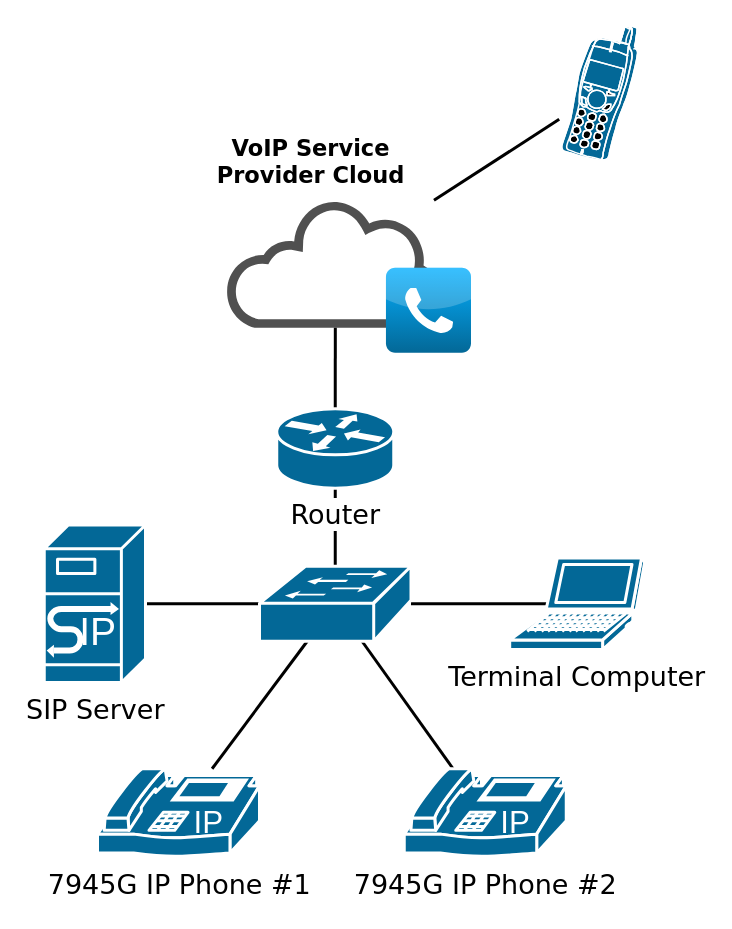
Image size: 732x929. Some labels were removed from this diagram. The centre of each missing label's shape, as x and y in pixels:
External Caller: the point at 598,93
Switch: the point at 334,603
